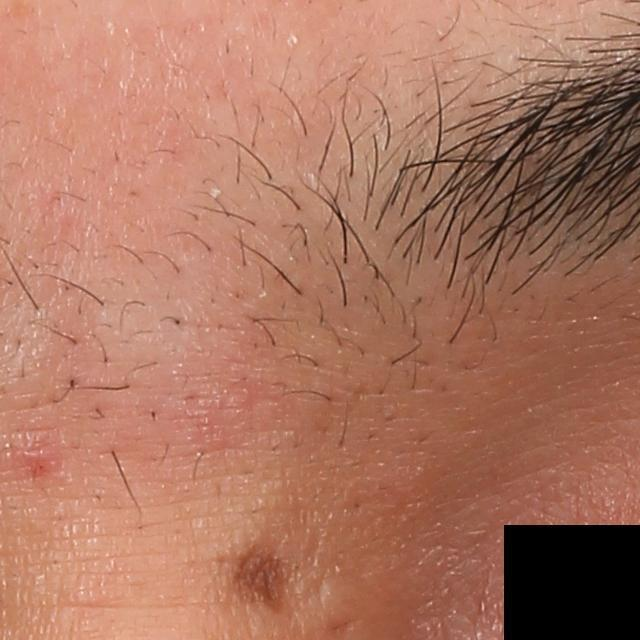nevus: (218, 537, 299, 636)
